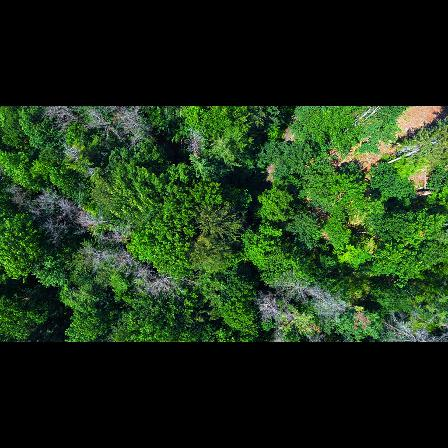Dead: (376, 315, 446, 341), (43, 195, 75, 241), (40, 106, 88, 133), (307, 288, 350, 317), (8, 183, 53, 210), (128, 114, 159, 149), (91, 109, 122, 144), (255, 295, 286, 324), (150, 271, 186, 295), (67, 211, 107, 231), (183, 128, 206, 161), (128, 261, 156, 284), (284, 274, 309, 299), (102, 245, 133, 264)
